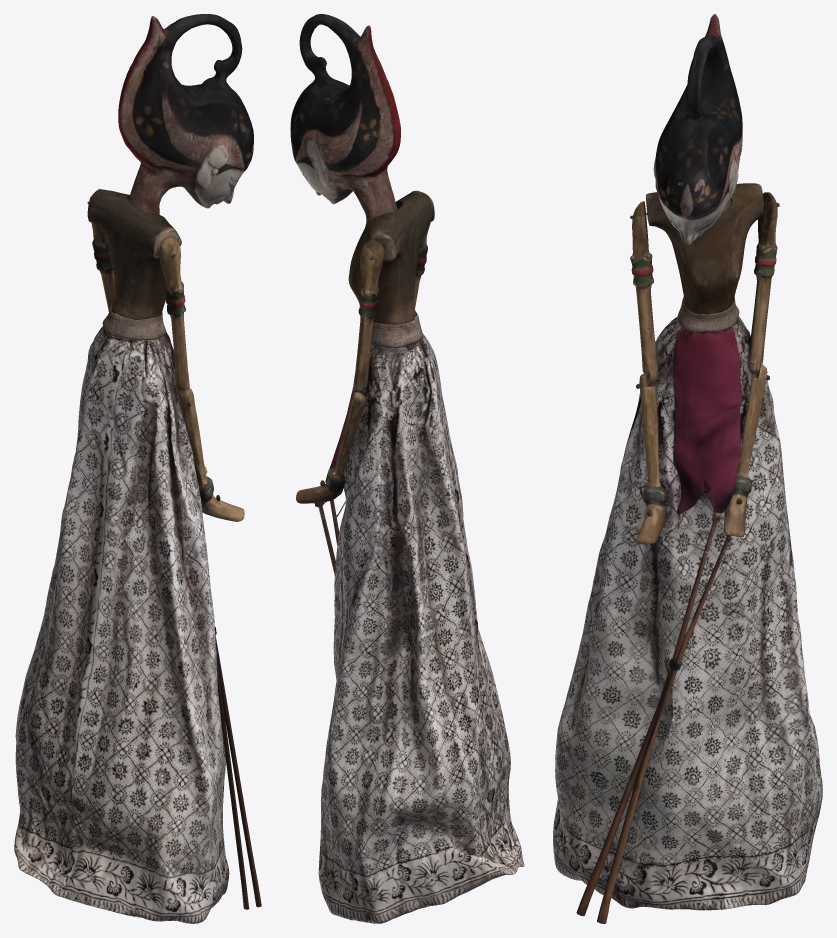
The model's file is wayang-golek.glb.
The picture shows the model from 3 angles, left to right: view 1: azimuth 30°, elevation 25°; view 2: azimuth 150°, elevation 25°; view 3: azimuth 270°, elevation 25°; orthographic projection. The views are drawn at different scales.
Parts seen in each view (by area): view 1: 1237_ardjuna_ardzuna_sukienka_0, 1237_ardjuna_ardzuna_body_FLIP_0, 1237_ardjuna_ardzuna_body_0; view 2: 1237_ardjuna_ardzuna_sukienka_0, 1237_ardjuna_ardzuna_body_FLIP_0, 1237_ardjuna_ardzuna_body_0; view 3: 1237_ardjuna_ardzuna_sukienka_0, 1237_ardjuna_ardzuna_body_0, 1237_ardjuna_ardzuna_body_FLIP_0.
Boxes of the visible parts, x1,y1,x2,y2 form: 1237_ardjuna_ardzuna_sukienka_0: [14, 326, 229, 923]; 1237_ardjuna_ardzuna_body_FLIP_0: [102, 14, 253, 339]; 1237_ardjuna_ardzuna_body_0: [87, 189, 261, 909]; 1237_ardjuna_ardzuna_sukienka_0: [318, 333, 524, 923]; 1237_ardjuna_ardzuna_body_FLIP_0: [290, 14, 422, 348]; 1237_ardjuna_ardzuna_body_0: [296, 190, 434, 575]; 1237_ardjuna_ardzuna_sukienka_0: [553, 316, 822, 910]; 1237_ardjuna_ardzuna_body_0: [576, 183, 779, 923]; 1237_ardjuna_ardzuna_body_FLIP_0: [653, 14, 742, 332].
Size of the model in its own units: 20.61 by 76 by 20.89.
3 materials, 3 textured.
